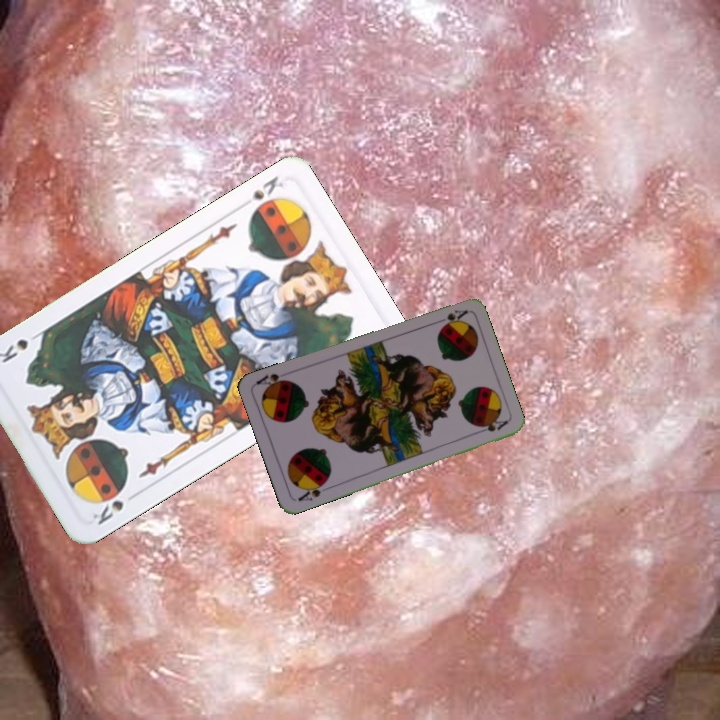SA: (294, 477, 332, 504), (431, 305, 470, 329)
SK: (236, 172, 286, 212), (88, 483, 128, 528)
